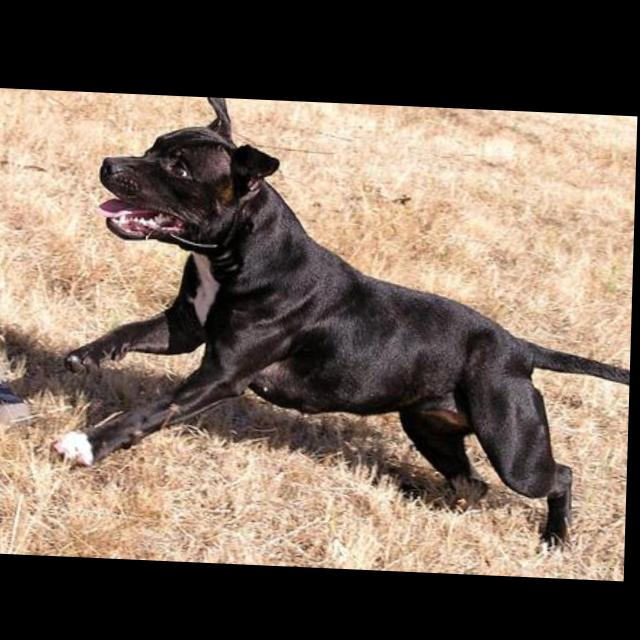staffford: (55, 90, 639, 552)
